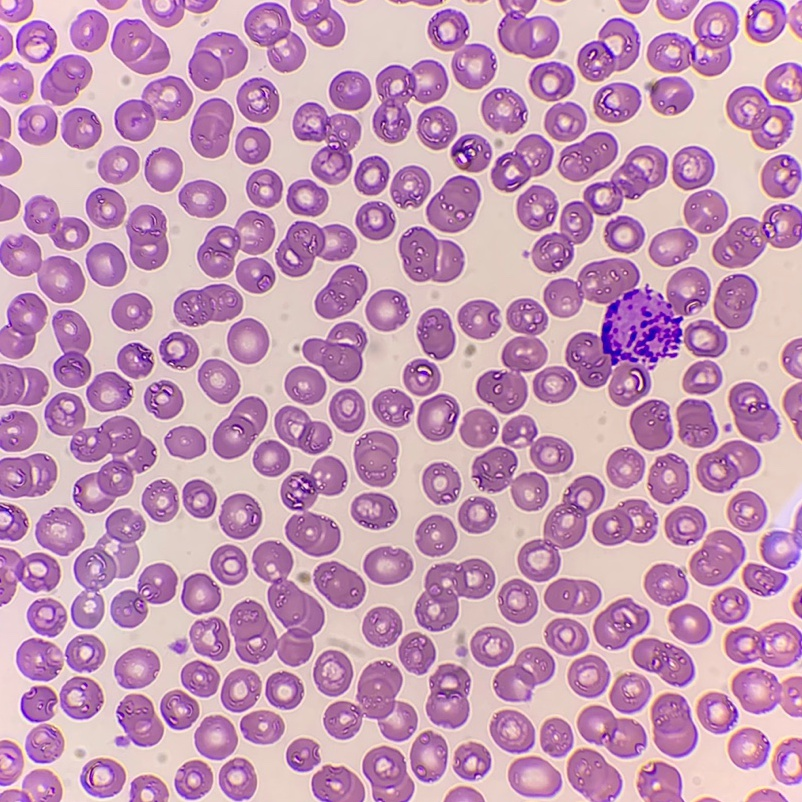RBC: (544, 259, 709, 405), (532, 146, 666, 271), (45, 393, 154, 511), (230, 541, 323, 665), (518, 476, 604, 581), (72, 509, 144, 627), (324, 661, 416, 740), (648, 5, 736, 75), (373, 60, 447, 142), (415, 559, 494, 630), (713, 204, 801, 267), (1, 236, 84, 302), (293, 103, 360, 183), (477, 337, 546, 413), (198, 211, 274, 276), (115, 77, 192, 140), (473, 447, 548, 510), (276, 221, 356, 276), (245, 3, 305, 71), (111, 564, 176, 626), (502, 416, 572, 473), (727, 86, 790, 149), (578, 18, 638, 80), (303, 322, 365, 381), (498, 0, 558, 57), (491, 135, 552, 191), (399, 227, 462, 281), (578, 706, 646, 756), (281, 457, 346, 509), (189, 32, 247, 89), (213, 397, 267, 458), (0, 548, 59, 603), (732, 668, 801, 715), (25, 197, 88, 248), (726, 623, 800, 666), (494, 648, 553, 701), (697, 441, 759, 491), (112, 20, 169, 73), (0, 293, 46, 358), (691, 530, 744, 585), (427, 176, 479, 232), (729, 383, 778, 441), (53, 310, 90, 386), (567, 749, 621, 801), (174, 284, 242, 325), (559, 132, 617, 180), (315, 265, 367, 318), (593, 500, 655, 544), (652, 694, 696, 756), (363, 747, 413, 801), (633, 638, 692, 683), (594, 598, 648, 647), (427, 664, 469, 727), (275, 406, 330, 453), (127, 205, 167, 268), (291, 0, 344, 46), (191, 99, 233, 157), (41, 56, 91, 104), (0, 454, 56, 496), (354, 431, 397, 485), (286, 513, 339, 555), (714, 274, 755, 328), (315, 562, 364, 607), (119, 694, 162, 745), (36, 508, 83, 554), (509, 757, 560, 796), (631, 400, 671, 449), (0, 364, 47, 405), (649, 454, 688, 503), (452, 44, 495, 88), (482, 88, 526, 131), (677, 399, 716, 447), (545, 579, 600, 613), (417, 309, 454, 359), (418, 394, 458, 440), (312, 766, 364, 801), (684, 190, 726, 233), (198, 359, 239, 403), (220, 494, 261, 538), (490, 710, 534, 751), (649, 228, 696, 266), (237, 78, 278, 121), (195, 716, 236, 759), (517, 186, 557, 230), (228, 319, 268, 363), (594, 83, 639, 122), (364, 547, 412, 583), (411, 732, 447, 780), (60, 677, 102, 718), (673, 146, 713, 189), (115, 649, 159, 688), (20, 639, 62, 679), (638, 762, 681, 801), (314, 651, 352, 695), (179, 180, 225, 216), (366, 290, 407, 330), (645, 564, 686, 604), (568, 655, 608, 696), (87, 372, 129, 411), (221, 669, 260, 711), (499, 579, 537, 622), (190, 618, 229, 659), (471, 627, 512, 666), (418, 107, 456, 149), (762, 155, 800, 197), (87, 243, 125, 285), (530, 63, 573, 100), (145, 148, 182, 191), (351, 493, 396, 528), (428, 11, 468, 50), (329, 71, 370, 109), (649, 77, 692, 113), (391, 166, 430, 205), (86, 188, 125, 227), (545, 103, 585, 141), (458, 300, 498, 338), (285, 366, 325, 404), (418, 515, 456, 555), (610, 674, 650, 712), (423, 463, 460, 504), (665, 506, 704, 544), (182, 574, 220, 613), (670, 605, 709, 643), (728, 491, 765, 531), (219, 758, 256, 798), (685, 320, 726, 356), (142, 480, 178, 521), (546, 619, 587, 655), (83, 759, 124, 795), (533, 366, 575, 401), (330, 389, 364, 432), (746, 3, 784, 41), (356, 201, 394, 239), (363, 607, 401, 645), (729, 729, 767, 767), (99, 146, 138, 183), (698, 693, 735, 732), (64, 108, 100, 148), (0, 411, 36, 451), (399, 633, 435, 673), (144, 381, 182, 418), (460, 409, 497, 447), (20, 23, 56, 62), (451, 135, 490, 171), (112, 293, 151, 329), (287, 180, 327, 215), (507, 299, 547, 334), (20, 107, 57, 144), (607, 450, 644, 487), (161, 691, 198, 728), (175, 761, 212, 798), (71, 12, 107, 50), (160, 332, 198, 368), (28, 599, 66, 635), (373, 391, 412, 426), (211, 545, 246, 584), (241, 711, 283, 743), (606, 216, 643, 252), (766, 63, 801, 101), (66, 635, 104, 670), (253, 440, 289, 476), (181, 661, 218, 696), (266, 673, 303, 708), (236, 258, 274, 292), (165, 426, 205, 458), (404, 359, 439, 395), (459, 497, 495, 532), (29, 725, 63, 762), (683, 361, 721, 394), (455, 743, 490, 778), (236, 127, 270, 163), (247, 170, 281, 206), (355, 157, 388, 194), (744, 564, 783, 595), (773, 740, 801, 783), (713, 588, 747, 623), (21, 686, 55, 721), (183, 480, 215, 517), (541, 719, 572, 756), (24, 770, 61, 801), (3, 65, 33, 103), (118, 343, 152, 376), (287, 739, 318, 770), (0, 741, 22, 783), (131, 776, 167, 801), (784, 383, 801, 433), (0, 509, 26, 539), (147, 5, 183, 26), (657, 0, 696, 19), (0, 140, 20, 175), (0, 187, 19, 220), (783, 344, 801, 377), (446, 787, 482, 801), (749, 789, 784, 801), (0, 28, 12, 57), (621, 0, 647, 12), (766, 554, 789, 567), (0, 109, 10, 136), (193, 0, 215, 12), (18, 0, 32, 18), (0, 790, 18, 801), (100, 0, 124, 8), (794, 593, 801, 614), (175, 639, 186, 651), (796, 513, 801, 529), (420, 0, 437, 4), (500, 0, 508, 5)
